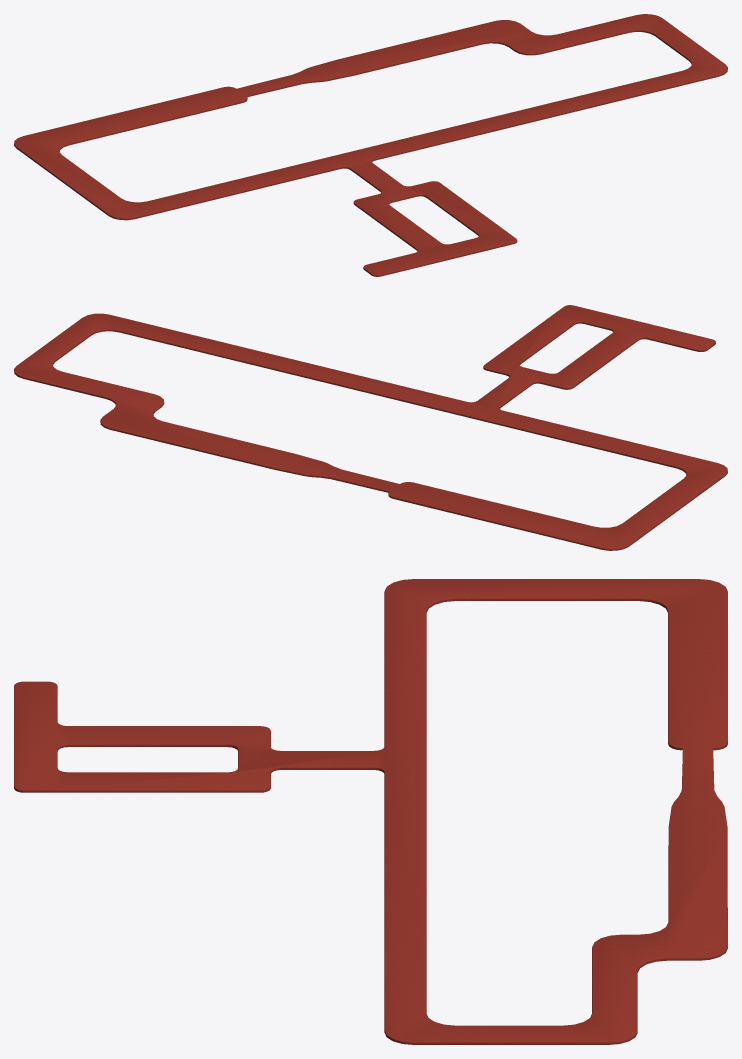
The model's file is tapis.gltf.
3 views of the same model, one above another, from view 1: azimuth 30°, elevation 25°; view 2: azimuth 150°, elevation 25°; view 3: azimuth 270°, elevation 25° (orthographic). The views are drawn at different scales.
Parts seen in each view (by area): view 1: Plane.008; view 2: Plane.008; view 3: Plane.008.
Part boxes in pixels (left/top/right/bottom): Plane.008: left=14, top=14, right=727, bottom=276; Plane.008: left=14, top=305, right=727, bottom=550; Plane.008: left=14, top=579, right=727, bottom=1044.
Bounding box in the file's own units: 92.38 × 0.24 × 60.13.
1 material, 1 textured.
